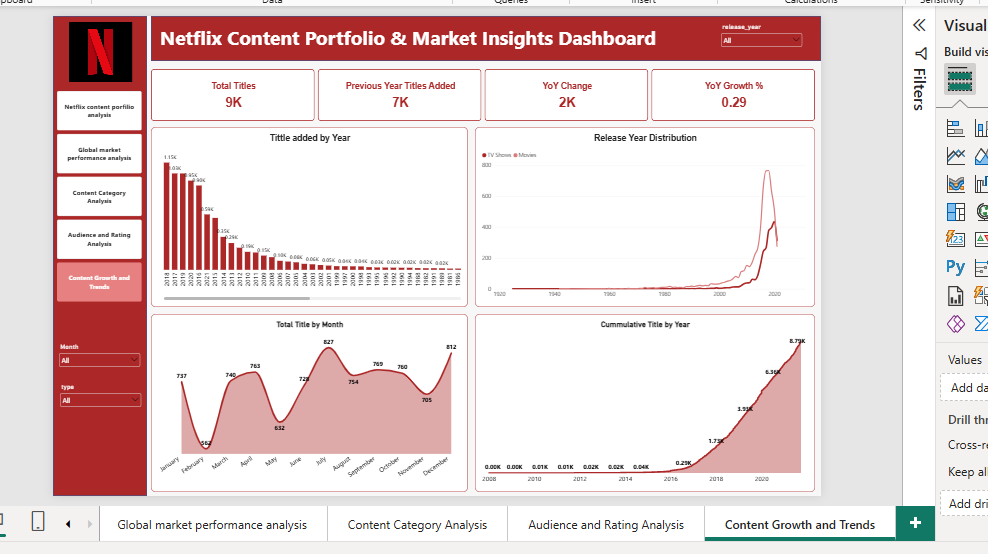

What the dashboard file says about the page in this screenshot:
{"tool":"powerbi","page":{"name":"Content Growth and Trends","canvas":[1920,1200],"ordinal":4},"visuals":[{"type":"shape","box":[245,0,1675,112.5],"z":0},{"type":"shape","box":[0,0,235,1200],"z":1000},{"type":"cardVisual","fields":{"Data":["Netflix Titles.Total Titles","Netflix Titles.Previous Year Titles Added","Netflix Titles.YoY Change","Netflix Titles.YoY Growth %"]},"box":[245,132.5,1660,130],"z":2000},{"type":"clusteredColumnChart","title":"Tittle added by Year","fields":{"Category":["Netflix Titles.release_year"],"Y":["Netflix Titles.Total Titles"]},"box":[244.7,276.3,792.1,450],"z":3000},{"type":"lineChart","title":"Release Year Distribution","fields":{"Category":["Netflix Titles.release_year"],"Y":["Netflix Titles.TV Shows","Netflix Titles.Movies"]},"box":[1055.3,276.3,850,450],"z":4000},{"type":"areaChart","title":"Total Title by Month","fields":{"Category":["DimDate.Date.Variation.Date Hierarchy.Month"],"Y":["Netflix Titles.Total Titles"]},"box":[244.7,744.7,792.1,444.7],"z":5000},{"type":"areaChart","title":"Cummulative Title by Year","fields":{"Category":["DimDate.Date.Variation.Date Hierarchy.Year"],"Y":["Netflix Titles.Cumulative Total Titles"]},"box":[1055.3,744.7,850,444.7],"z":6000},{"type":"textbox","box":[267.5,20,1367.5,75],"z":7000},{"type":"pageNavigator","box":[10,187.5,212.5,530],"z":8000},{"type":"image","box":[40,15,157.5,150],"z":9000},{"type":"slicer","fields":{"Values":["DimDate.Date.Variation.Date Hierarchy.Month"]},"box":[10,817.5,212.5,72.5],"z":10000},{"type":"slicer","fields":{"Values":["Netflix Titles.type"]},"box":[12.5,917.5,212.5,72.5],"z":11000},{"type":"slicer","fields":{"Values":["Netflix Titles.release_year"]},"box":[1665,17.5,212.5,72.5],"z":12000}]}

Visuals, with their boxes on the page's 1920x1200 design canvas (x1, y1, x2, y2). These are canvas units, not pixel positions in the 988x554 screenshot, which may show the page scaled, cropped or inside an application window:
shape: [left=245, top=0, right=1920, bottom=112]
shape: [left=0, top=0, right=235, bottom=1200]
cardVisual - Netflix Titles.Total Titles x Netflix Titles.Previous Year Titles Added: [left=245, top=132, right=1905, bottom=262]
"Tittle added by Year" clusteredColumnChart: [left=245, top=276, right=1037, bottom=726]
"Release Year Distribution" lineChart: [left=1055, top=276, right=1905, bottom=726]
"Total Title by Month" areaChart: [left=245, top=745, right=1037, bottom=1189]
"Cummulative Title by Year" areaChart: [left=1055, top=745, right=1905, bottom=1189]
textbox: [left=268, top=20, right=1635, bottom=95]
pageNavigator: [left=10, top=188, right=222, bottom=718]
image: [left=40, top=15, right=198, bottom=165]
slicer - DimDate.Date.Variation.Date Hierarchy.Month: [left=10, top=818, right=222, bottom=890]
slicer - Netflix Titles.type: [left=12, top=918, right=225, bottom=990]
slicer - Netflix Titles.release_year: [left=1665, top=18, right=1878, bottom=90]
